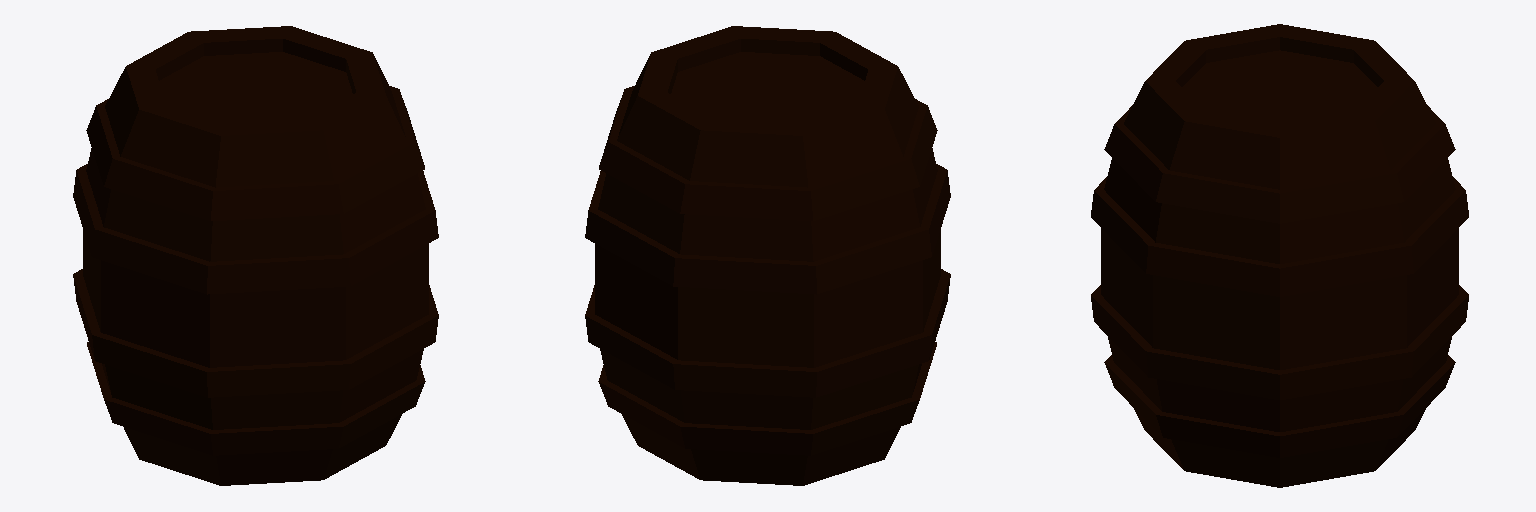
File: barrel_001.obj
The picture shows the model from 3 angles: view 1: azimuth 30°, elevation 25°; view 2: azimuth 150°, elevation 25°; view 3: azimuth 270°, elevation 25°; orthographic projection.
Parts seen in each view (by area): view 1: barrel_001; view 2: barrel_001; view 3: barrel_001.
Part boxes in pixels (x1,y1,x2,y2): barrel_001: (73, 26, 438, 485); barrel_001: (585, 26, 950, 485); barrel_001: (1091, 24, 1468, 487).
Size of the model in its own units: 0.7118 by 0.7257 by 0.7118.